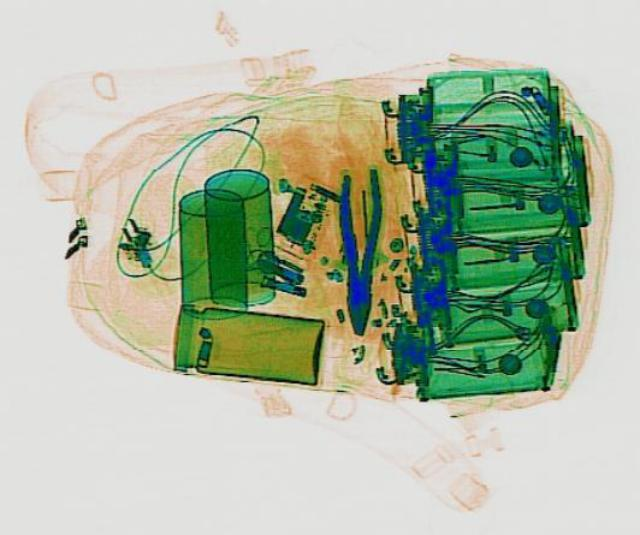Pliers: (336, 168, 382, 333)
